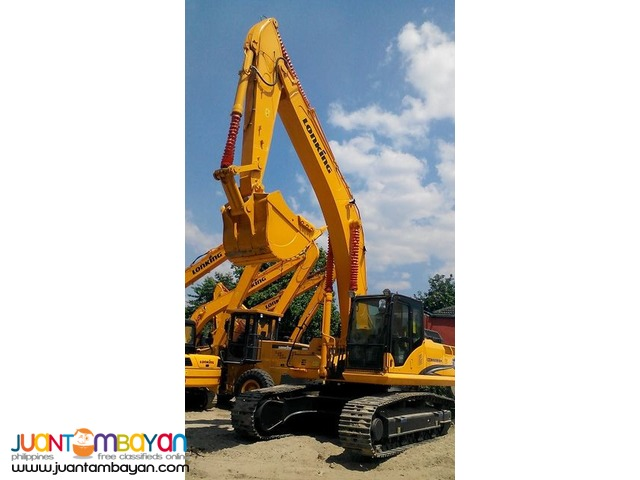backhoe: (219, 12, 454, 461)
